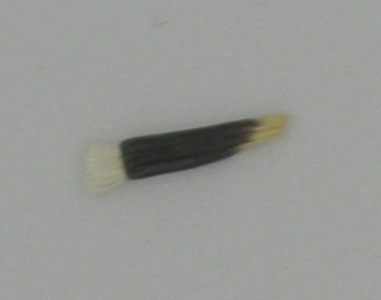เมล็ดดีติดกัน: (83, 106, 288, 191)
